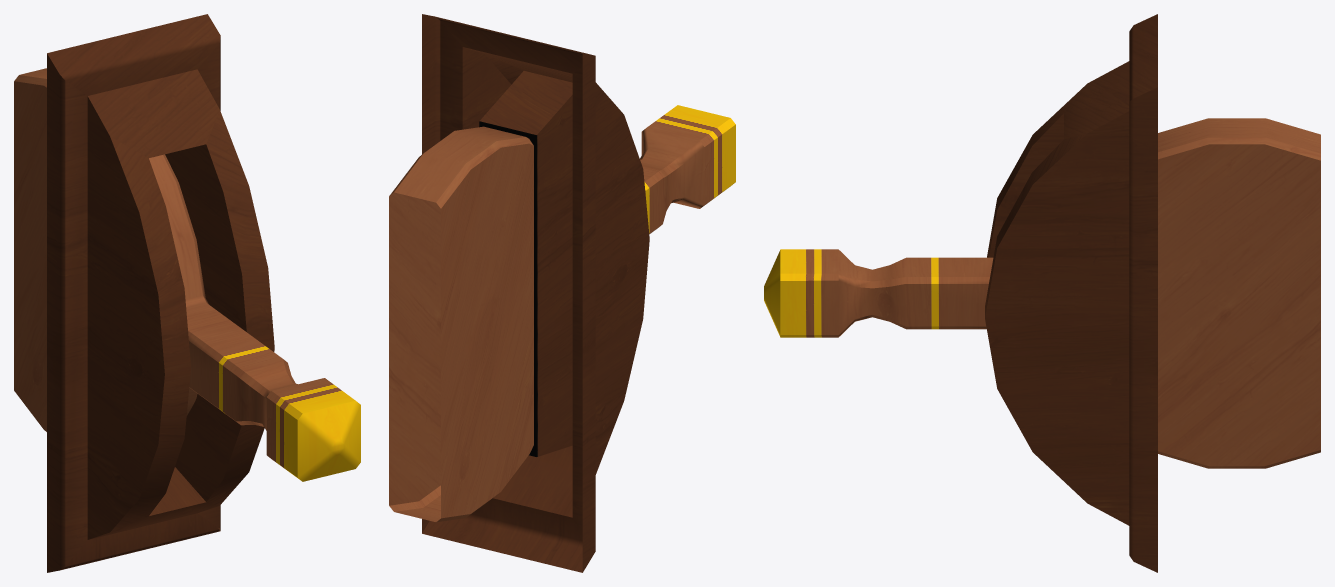
Rendered from Lever.fbx.
The picture shows the model from 3 angles, left to right: view 1: azimuth 30°, elevation 25°; view 2: azimuth 150°, elevation 25°; view 3: azimuth 270°, elevation 25°; orthographic projection. The views are drawn at different scales.
Visible parts, largest first — view 1: Lever_Box, Lever; view 2: Lever_Box, Lever; view 3: Lever, Lever_Box.
Boxes of the visible parts, box(x1,y1,x2,y2) form: Lever_Box: box(47, 14, 274, 572); Lever: box(14, 68, 360, 481); Lever_Box: box(422, 14, 649, 572); Lever: box(389, 105, 735, 522); Lever: box(764, 118, 1320, 468); Lever_Box: box(985, 14, 1157, 572).
Bounding box in the file's own units: 16.78 × 51.82 × 53.86.
1 material, 1 textured.
